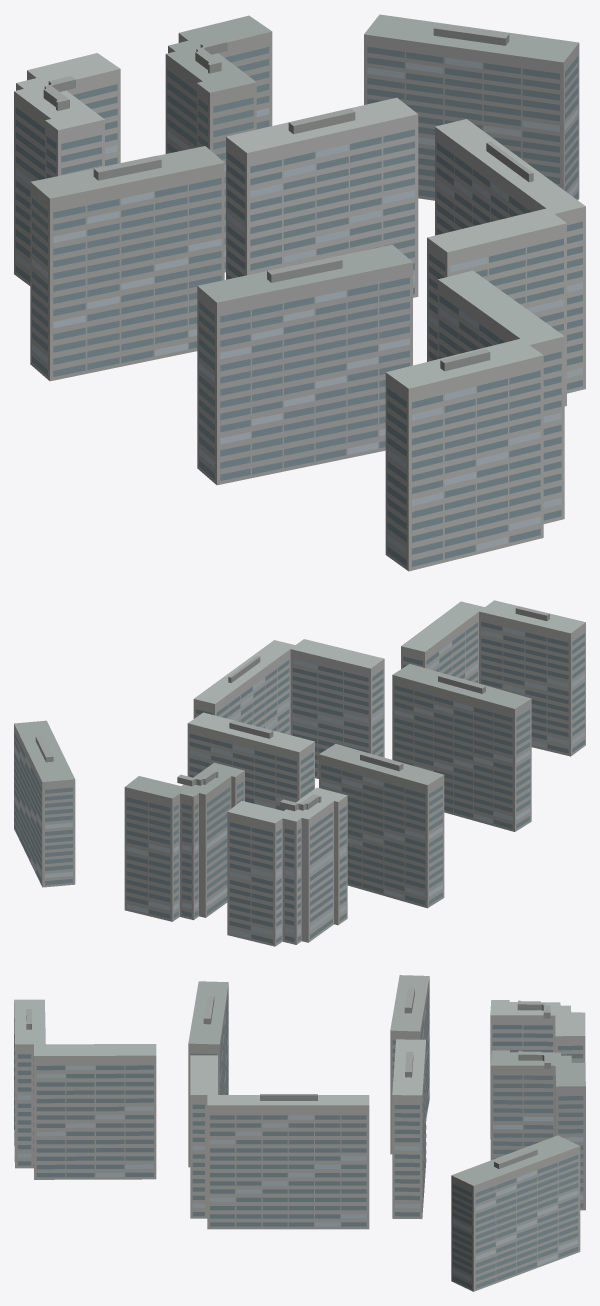
The model's file is apt-a15785005.glb.
3 views of the same model, one above another, from view 1: azimuth 30°, elevation 25°; view 2: azimuth 150°, elevation 25°; view 3: azimuth 270°, elevation 25° (orthographic). The views are drawn at different scales.
Parts seen in each view (by area): view 1: apt-a15785005; view 2: apt-a15785005; view 3: apt-a15785005.
Part boxes in pixels (left/top/right/bottom): apt-a15785005: left=14, top=14, right=585, bottom=571; apt-a15785005: left=14, top=600, right=585, bottom=946; apt-a15785005: left=14, top=975, right=585, bottom=1291.
Bounding box in the file's own units: 153 × 48 × 192.
